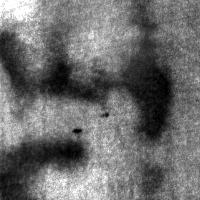patches: (0, 54, 90, 186), (83, 8, 163, 88), (123, 15, 172, 138), (1, 138, 87, 200), (39, 45, 117, 102), (33, 0, 101, 40), (1, 28, 35, 98)
